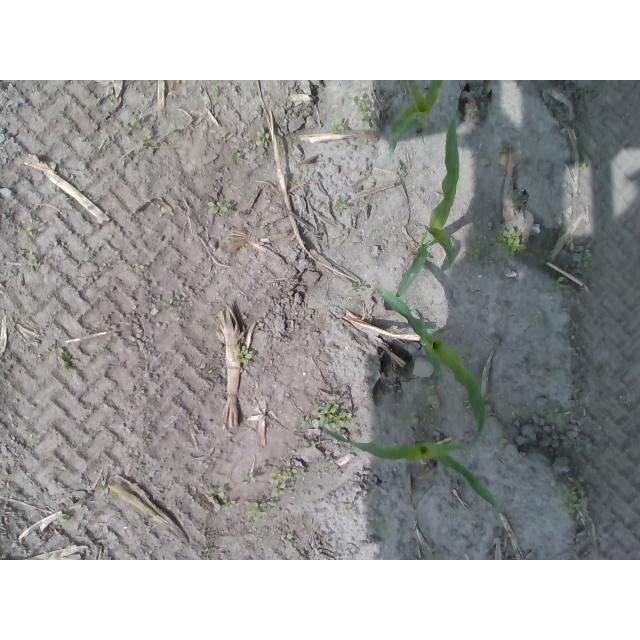Maize: (369, 282, 488, 447), (314, 421, 496, 507), (392, 112, 462, 296), (385, 80, 446, 148)
Weeds: (552, 481, 592, 554), (493, 226, 551, 267), (261, 462, 305, 499), (343, 89, 381, 127), (315, 395, 351, 430), (119, 116, 153, 143), (242, 498, 278, 523), (46, 345, 76, 372), (417, 379, 442, 410), (206, 487, 239, 510), (575, 242, 593, 274), (372, 513, 392, 539), (286, 533, 303, 560), (207, 198, 232, 216), (397, 408, 422, 425), (161, 294, 185, 311), (235, 345, 253, 366), (548, 406, 566, 427), (550, 276, 569, 295), (17, 251, 38, 266), (467, 247, 485, 264), (328, 116, 347, 132), (511, 189, 526, 207), (256, 127, 271, 145), (349, 280, 367, 293), (459, 340, 473, 356), (546, 447, 563, 460), (468, 427, 481, 444), (335, 198, 349, 212), (493, 433, 507, 446), (577, 160, 592, 172), (298, 415, 311, 428), (56, 514, 69, 526), (321, 456, 335, 467), (571, 386, 581, 401), (206, 542, 218, 553), (231, 152, 242, 163), (367, 487, 377, 499), (391, 164, 403, 174), (550, 369, 561, 379), (343, 505, 353, 515), (305, 231, 315, 241), (133, 263, 144, 272), (110, 495, 120, 502)
